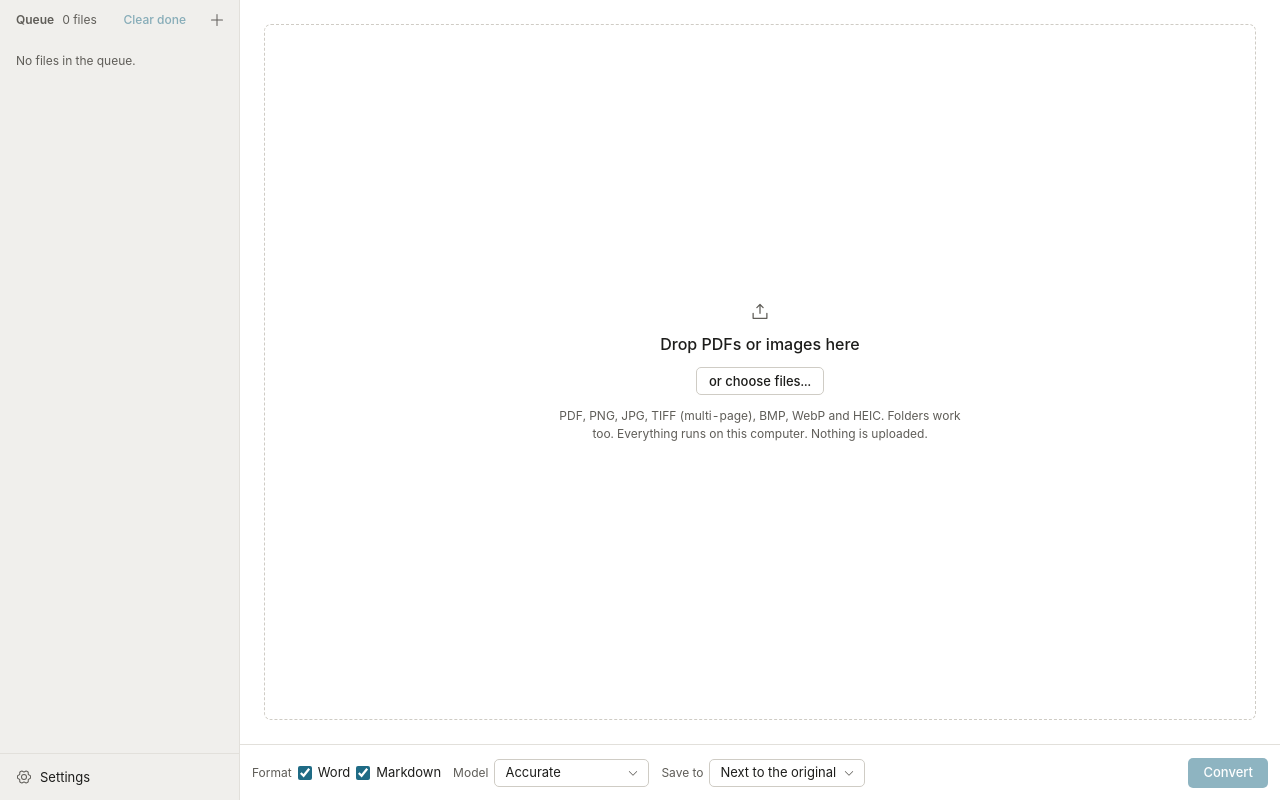
Test case: App shell › opens Settings from the sidebar and returns with Back
What coordinates should you click on to do the following:
click the button "Settings"
I would click on:
 (120, 777)
Its box is [8,762,231,792].
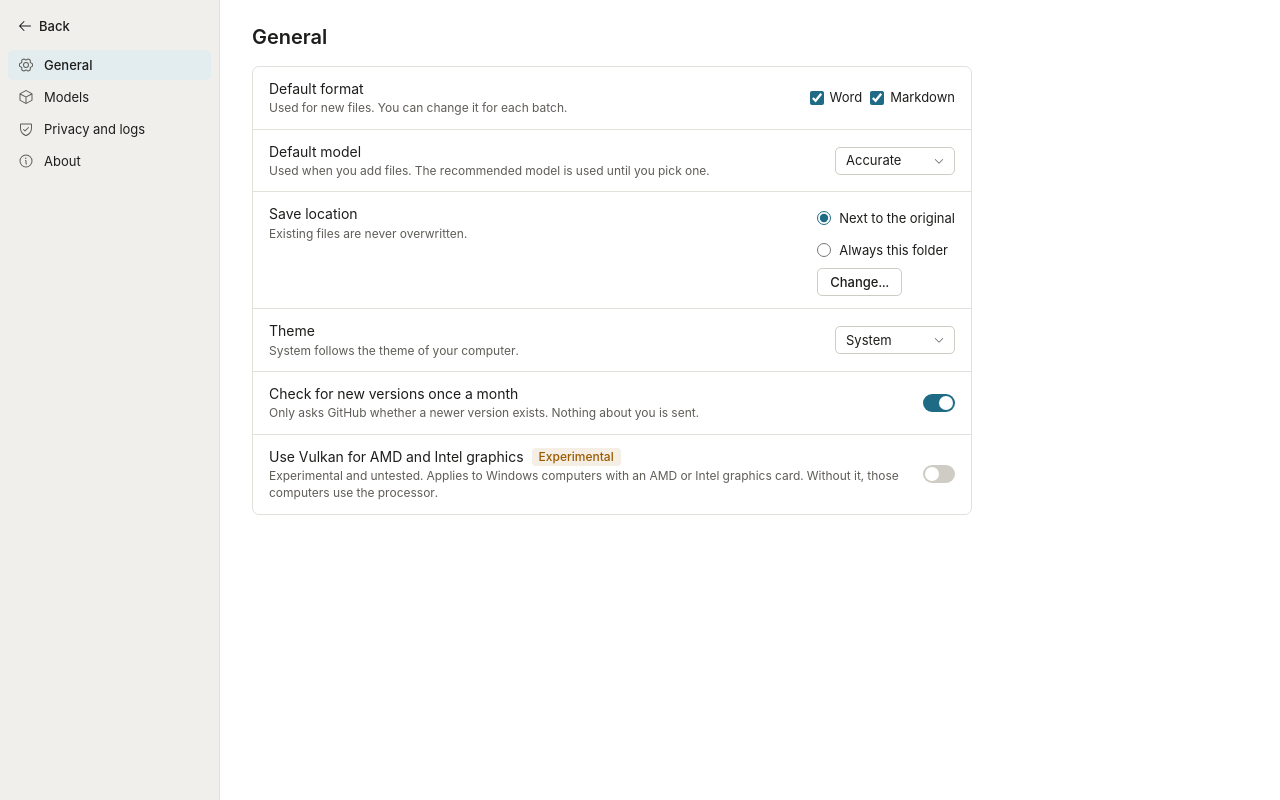
Expected: the heading "General" is shown, [252,25,327,49]
What coordinates should you click on to do the following:
click the button "Back"
I would click on:
 (43, 26)
Its box is [8,12,79,40].
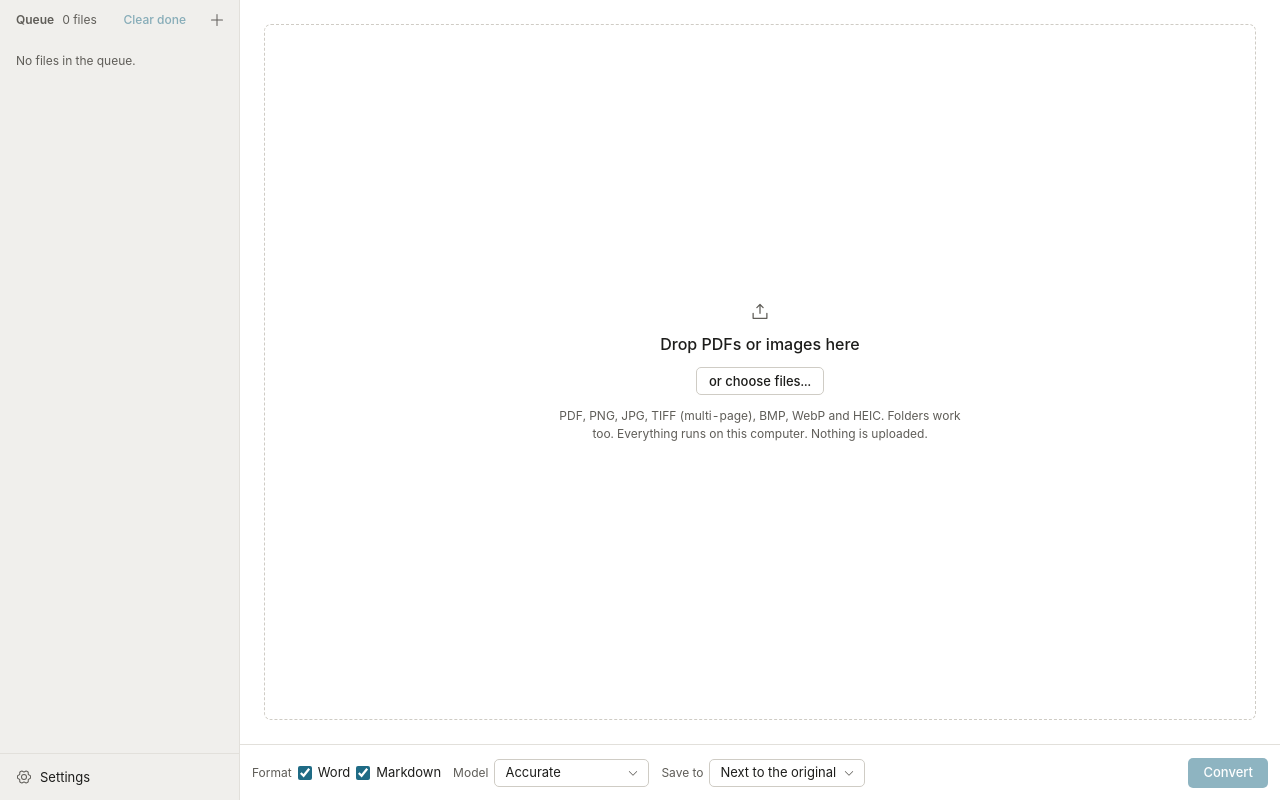
Expected: the element named "File queue" is shown, [0,0,240,799]
